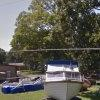Boat: (38, 57, 83, 100)
